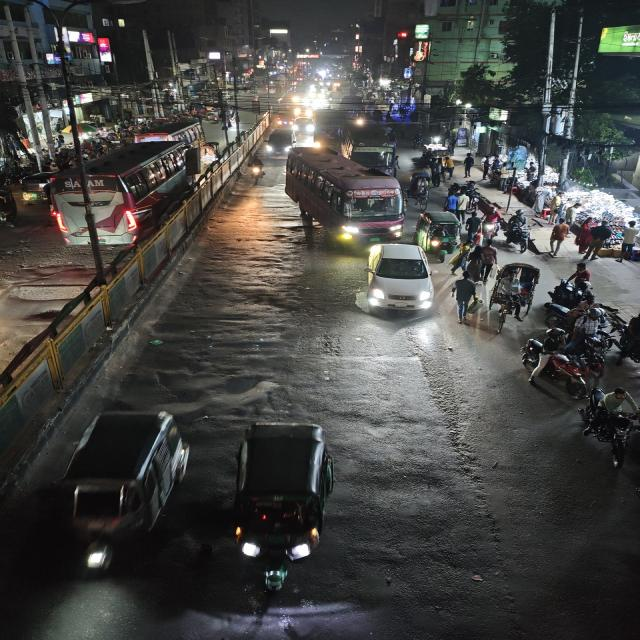bus: (46, 138, 195, 252), (283, 147, 408, 240), (336, 124, 399, 166), (135, 118, 207, 151)
car: (361, 239, 437, 319), (264, 128, 296, 156)
cng: (57, 406, 191, 578), (230, 419, 341, 594), (418, 210, 461, 256), (19, 170, 55, 204)
motorcycle: (574, 385, 639, 455), (519, 332, 586, 398), (507, 208, 534, 253), (622, 307, 640, 369), (478, 202, 504, 244), (245, 150, 268, 184), (467, 209, 482, 243)
pedestrian: (450, 274, 478, 324), (579, 218, 610, 262), (568, 260, 594, 300), (619, 218, 640, 262), (547, 219, 570, 257), (438, 153, 456, 184), (462, 150, 476, 178)
rickshaw: (492, 260, 542, 320), (407, 170, 434, 203)
